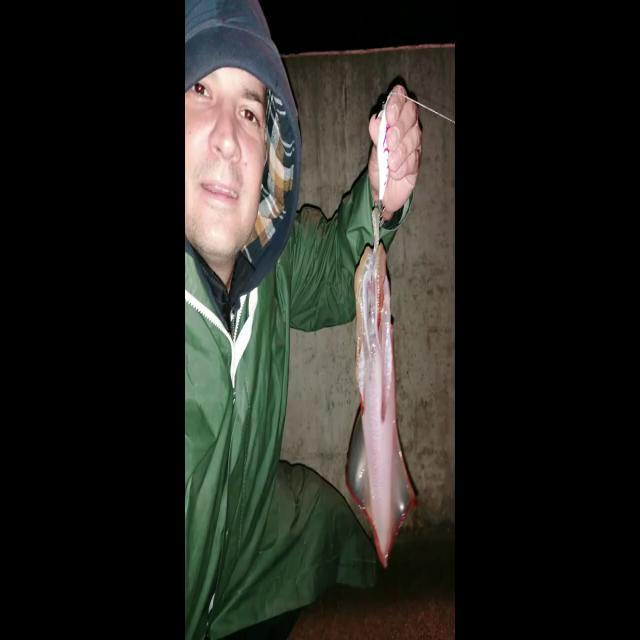squid: (346, 245, 417, 570)
